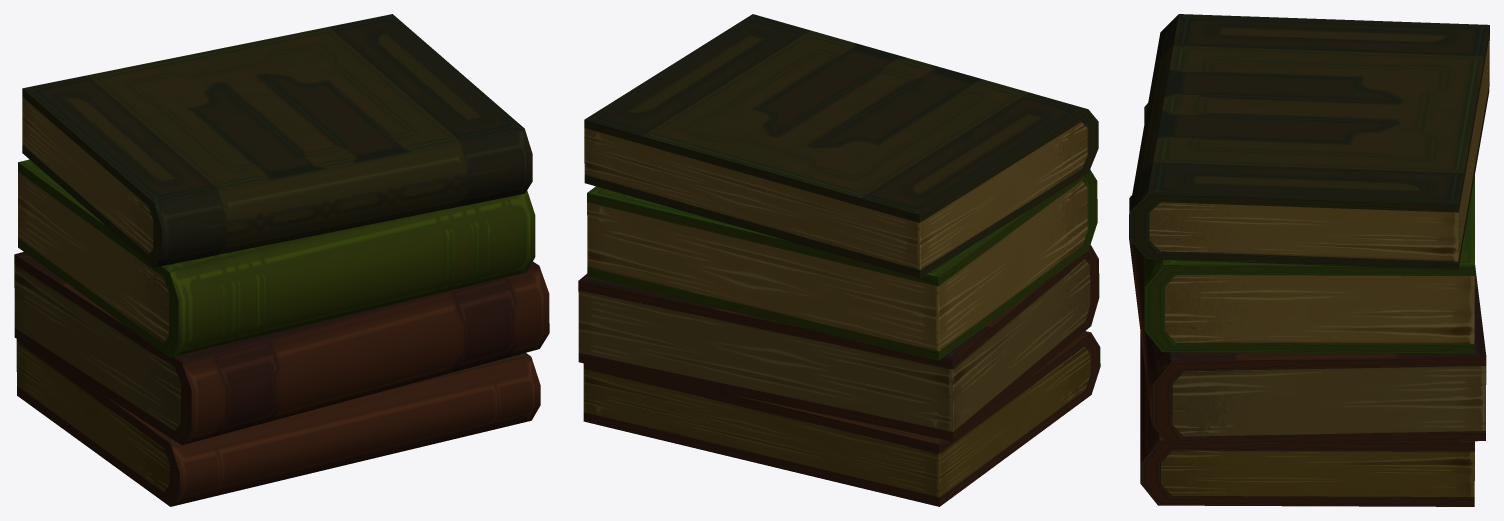
File: book-stack-1.glb
3 views of the same model, side by side, from view 1: azimuth 30°, elevation 25°; view 2: azimuth 150°, elevation 25°; view 3: azimuth 270°, elevation 25° (orthographic). The views are drawn at different scales.
Visible parts, largest first — view 1: Book_Stack_1; view 2: Book_Stack_1; view 3: Book_Stack_1.
Part boxes in pixels (left/top/right/bottom): Book_Stack_1: left=14, top=14, right=549, bottom=506; Book_Stack_1: left=578, top=14, right=1100, bottom=506; Book_Stack_1: left=1129, top=14, right=1489, bottom=506.
Size of the model in its own units: 0.2849 by 0.2137 by 0.2263.
Materials: 1 (1 with a texture image).
